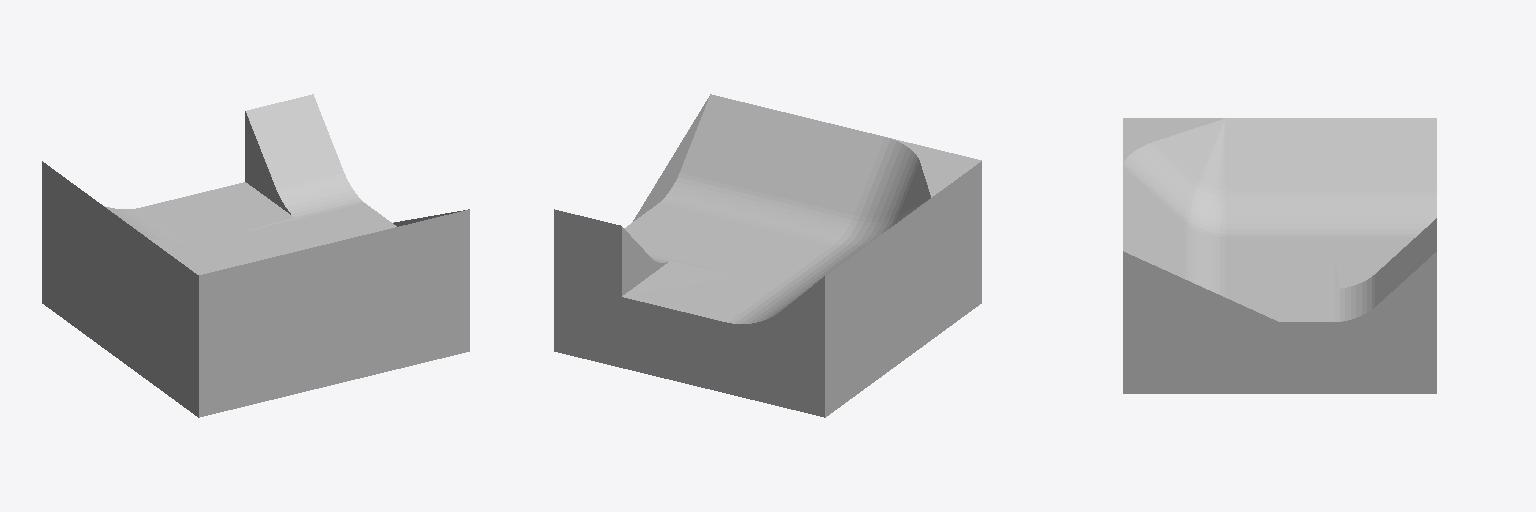
The model's file is Block_Turn.obj.
The picture shows the model from 3 angles: view 1: azimuth 30°, elevation 25°; view 2: azimuth 150°, elevation 25°; view 3: azimuth 270°, elevation 25°; orthographic projection.
Parts seen in each view (by area): view 1: Cube.001_Cube.002; view 2: Cube.001_Cube.002; view 3: Cube.001_Cube.002.
Part boxes in pixels (bbox=[...]): Cube.001_Cube.002: bbox=[42, 94, 469, 417]; Cube.001_Cube.002: bbox=[554, 94, 981, 417]; Cube.001_Cube.002: bbox=[1123, 118, 1436, 393].
Bounding box in the file's own units: 4 × 2 × 4.